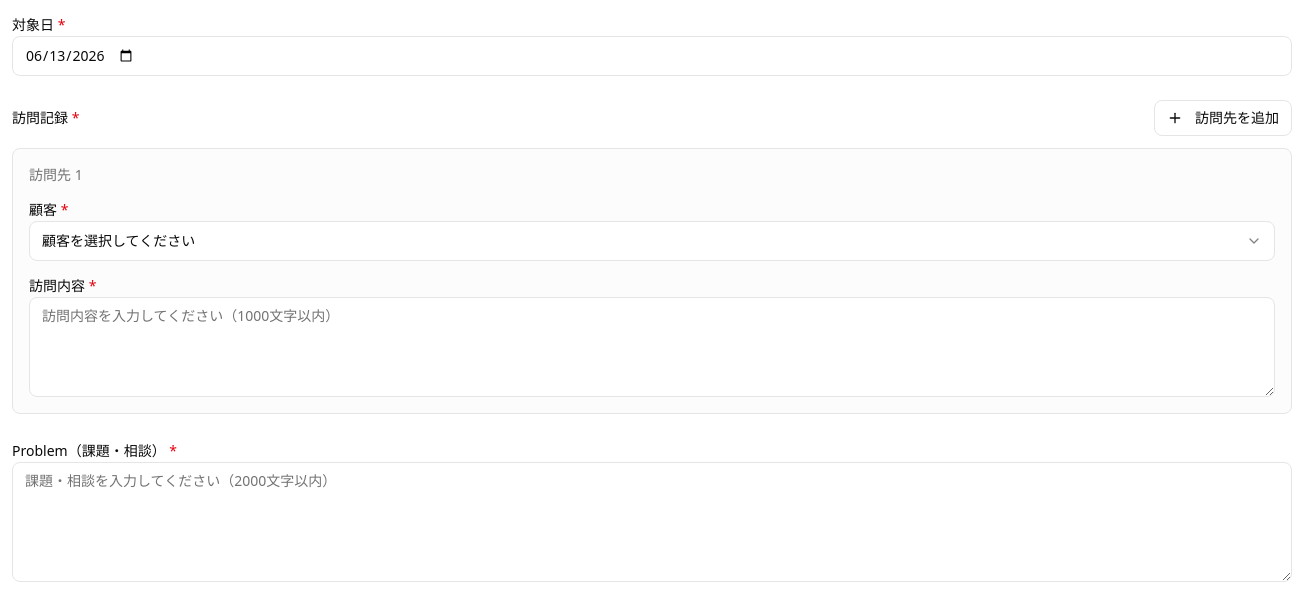
Test case: ReportForm › 訪問記録の動的追加・削除 › 削除ボタンをクリックすると該当行が削除される
Click the button "訪問先を追加": (1223, 118) x1=1154 y1=100 x2=1292 y2=136
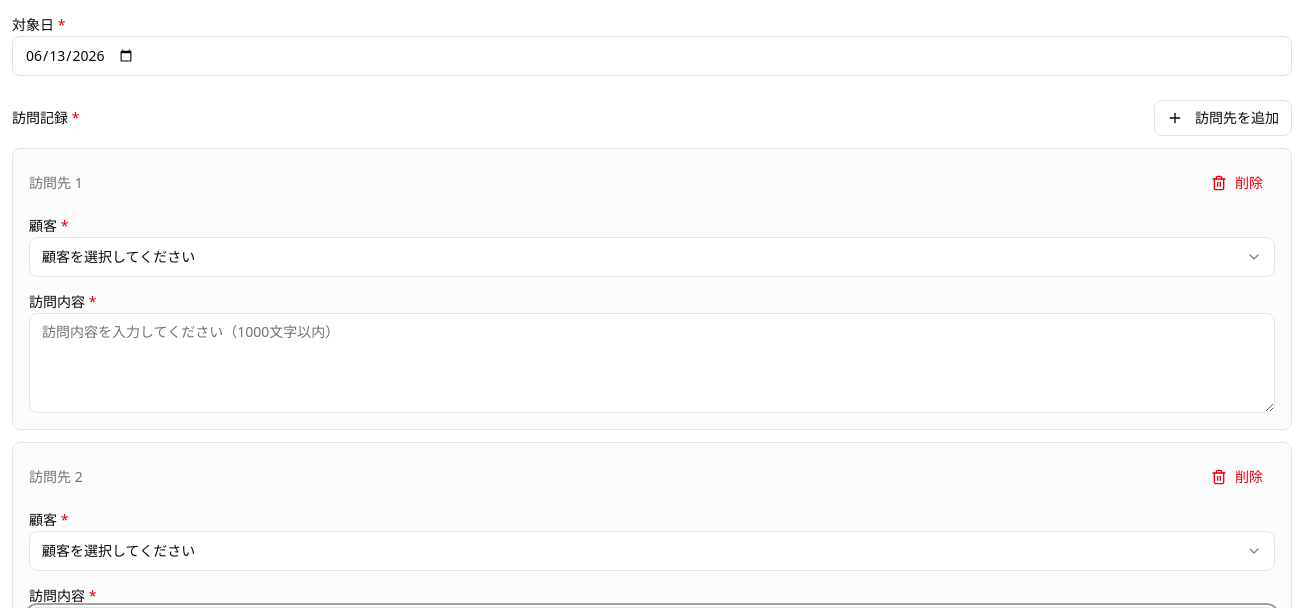
Now the text "訪問先 2" is shown, box x1=29 y1=467 x2=83 y2=487
Click the button with aria-label "訪問先 2 を削除": (1237, 477) x1=1199 y1=459 x2=1275 y2=495
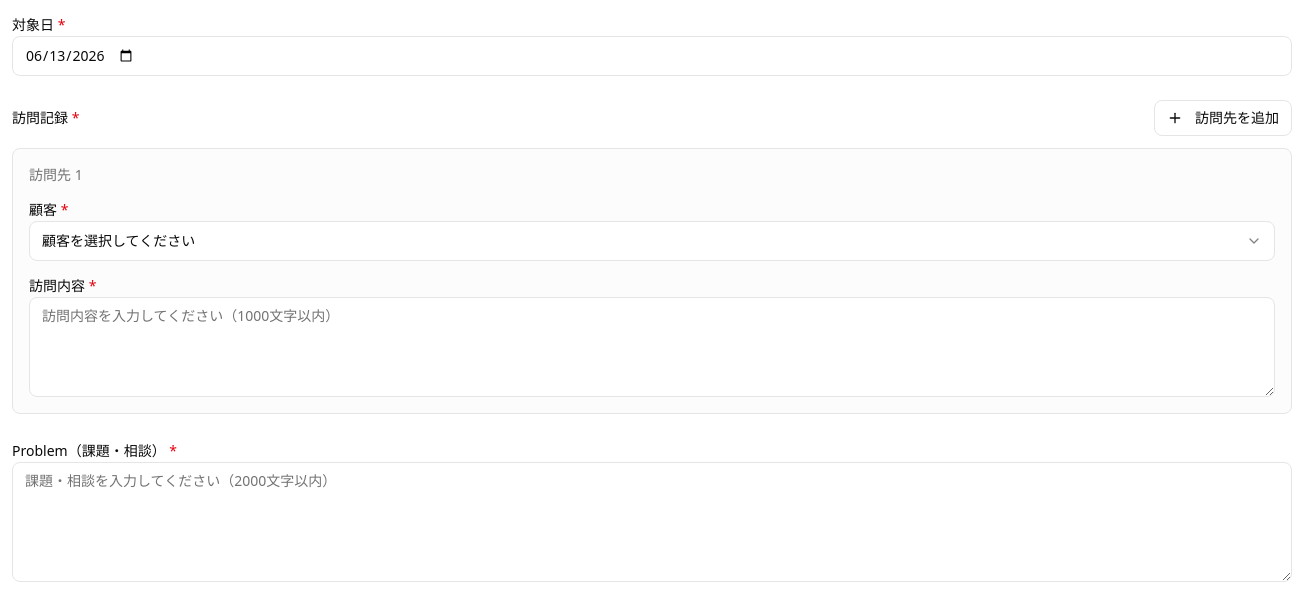
Expected: the text "訪問先 1" is shown, x1=29 y1=165 x2=83 y2=185
Now the text "訪問先 2" is gone
